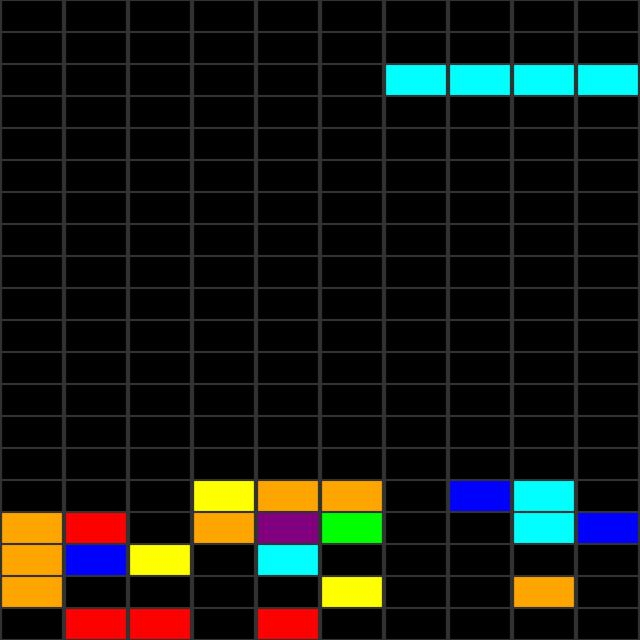Tetrimino_Z: (384, 63, 640, 96)
